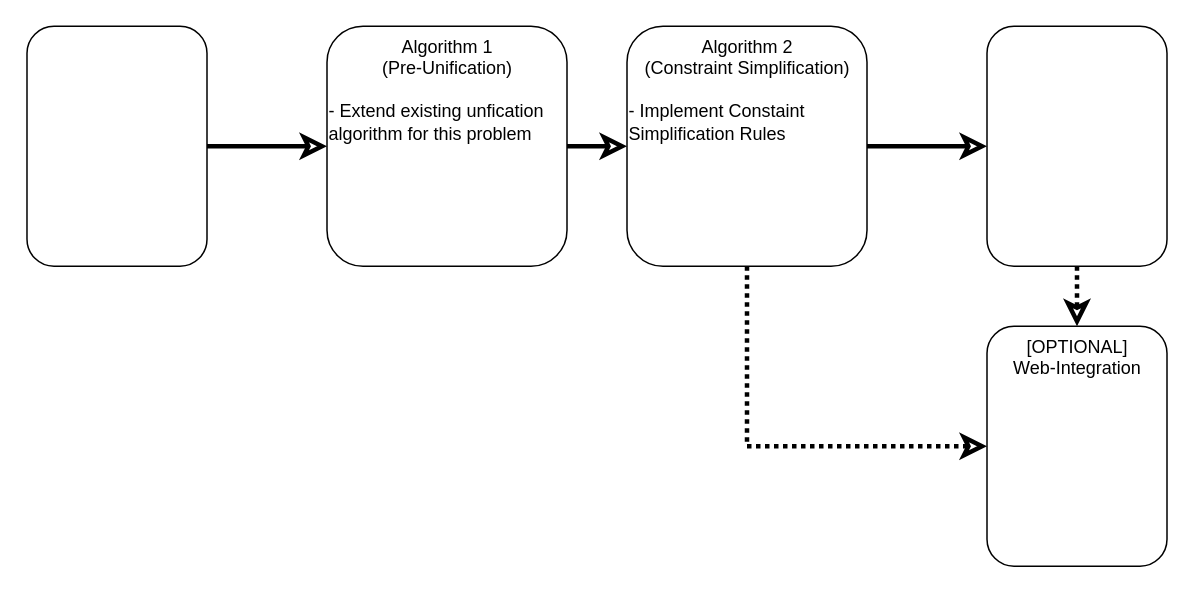
This 1193x593 diagram has some shape labels left out. Each missing label, with the centre of its shape:
Input Processing - Use existing InputParser. - Extend to read Proximity Relation: the point at 116,145
Output: the point at 1076,145
